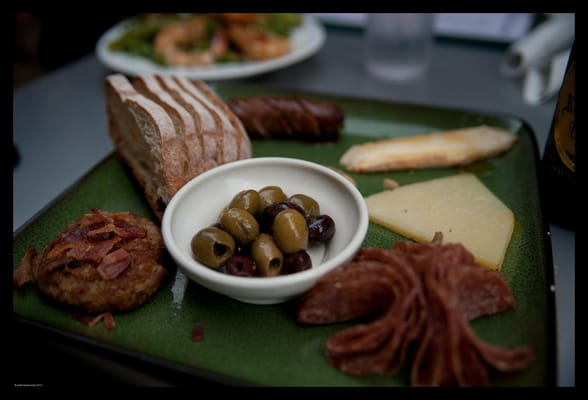pizza: (361, 14, 434, 84)
sushi: (161, 157, 370, 304)
